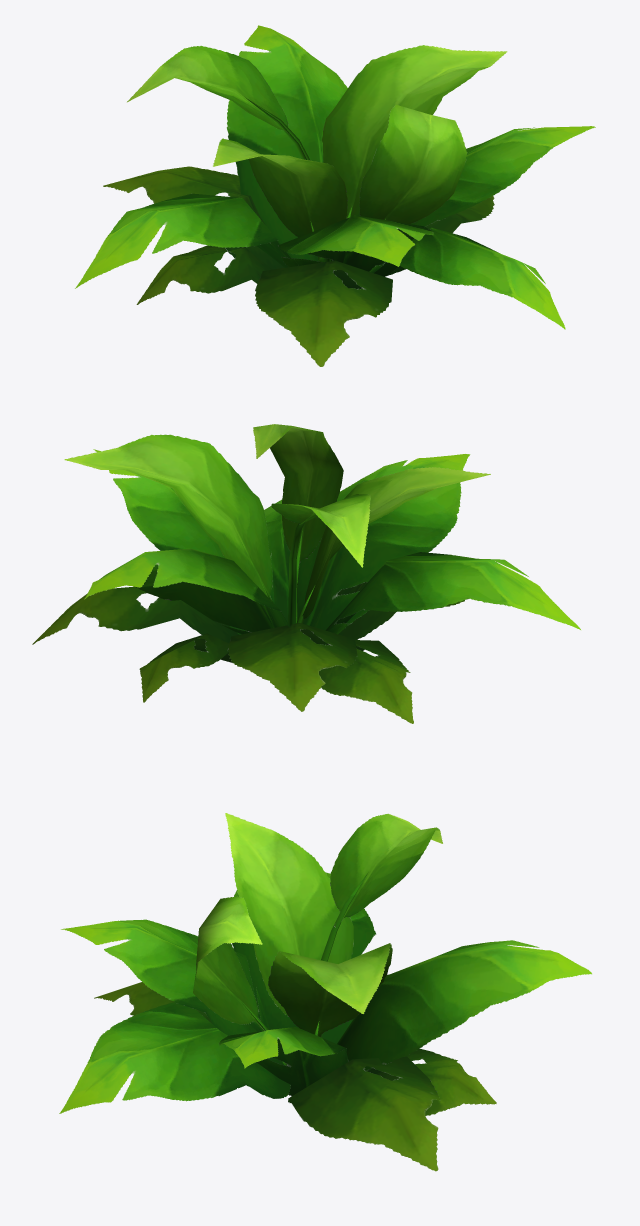
The model's file is bush_02.FBX.
The picture shows the model from 3 angles, top to bottom: view 1: azimuth 30°, elevation 25°; view 2: azimuth 150°, elevation 25°; view 3: azimuth 270°, elevation 25°; orthographic projection.
Visible parts, largest first — view 1: bush_02; view 2: bush_02; view 3: bush_02.
Boxes of the visible parts, left/top/right/bottom form: bush_02: left=75, top=25, right=595, bottom=366; bush_02: left=32, top=424, right=580, bottom=723; bush_02: left=59, top=813, right=591, bottom=1171.
Size of the model in its own units: 396 by 185 by 378.
Materials: 1 (1 with a texture image).
